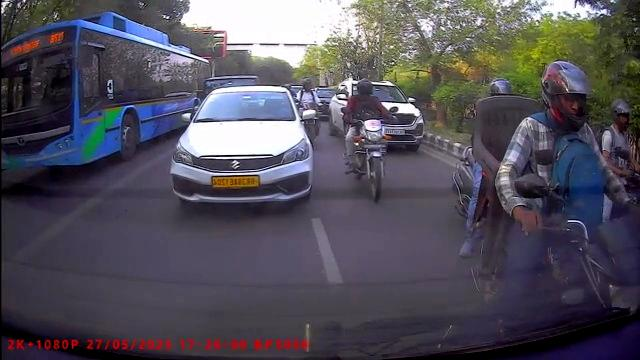motorcycle_with_helmet: (448, 60, 640, 334), (341, 77, 396, 205), (298, 78, 324, 145)
